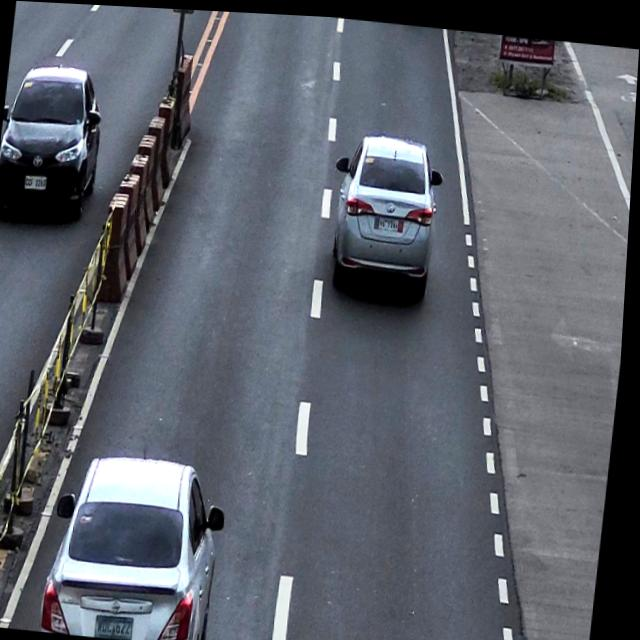Car: (45, 446, 238, 640), (323, 129, 449, 308), (0, 60, 112, 227)
License-Plate: (101, 612, 143, 639), (378, 210, 403, 230), (25, 174, 51, 192)
